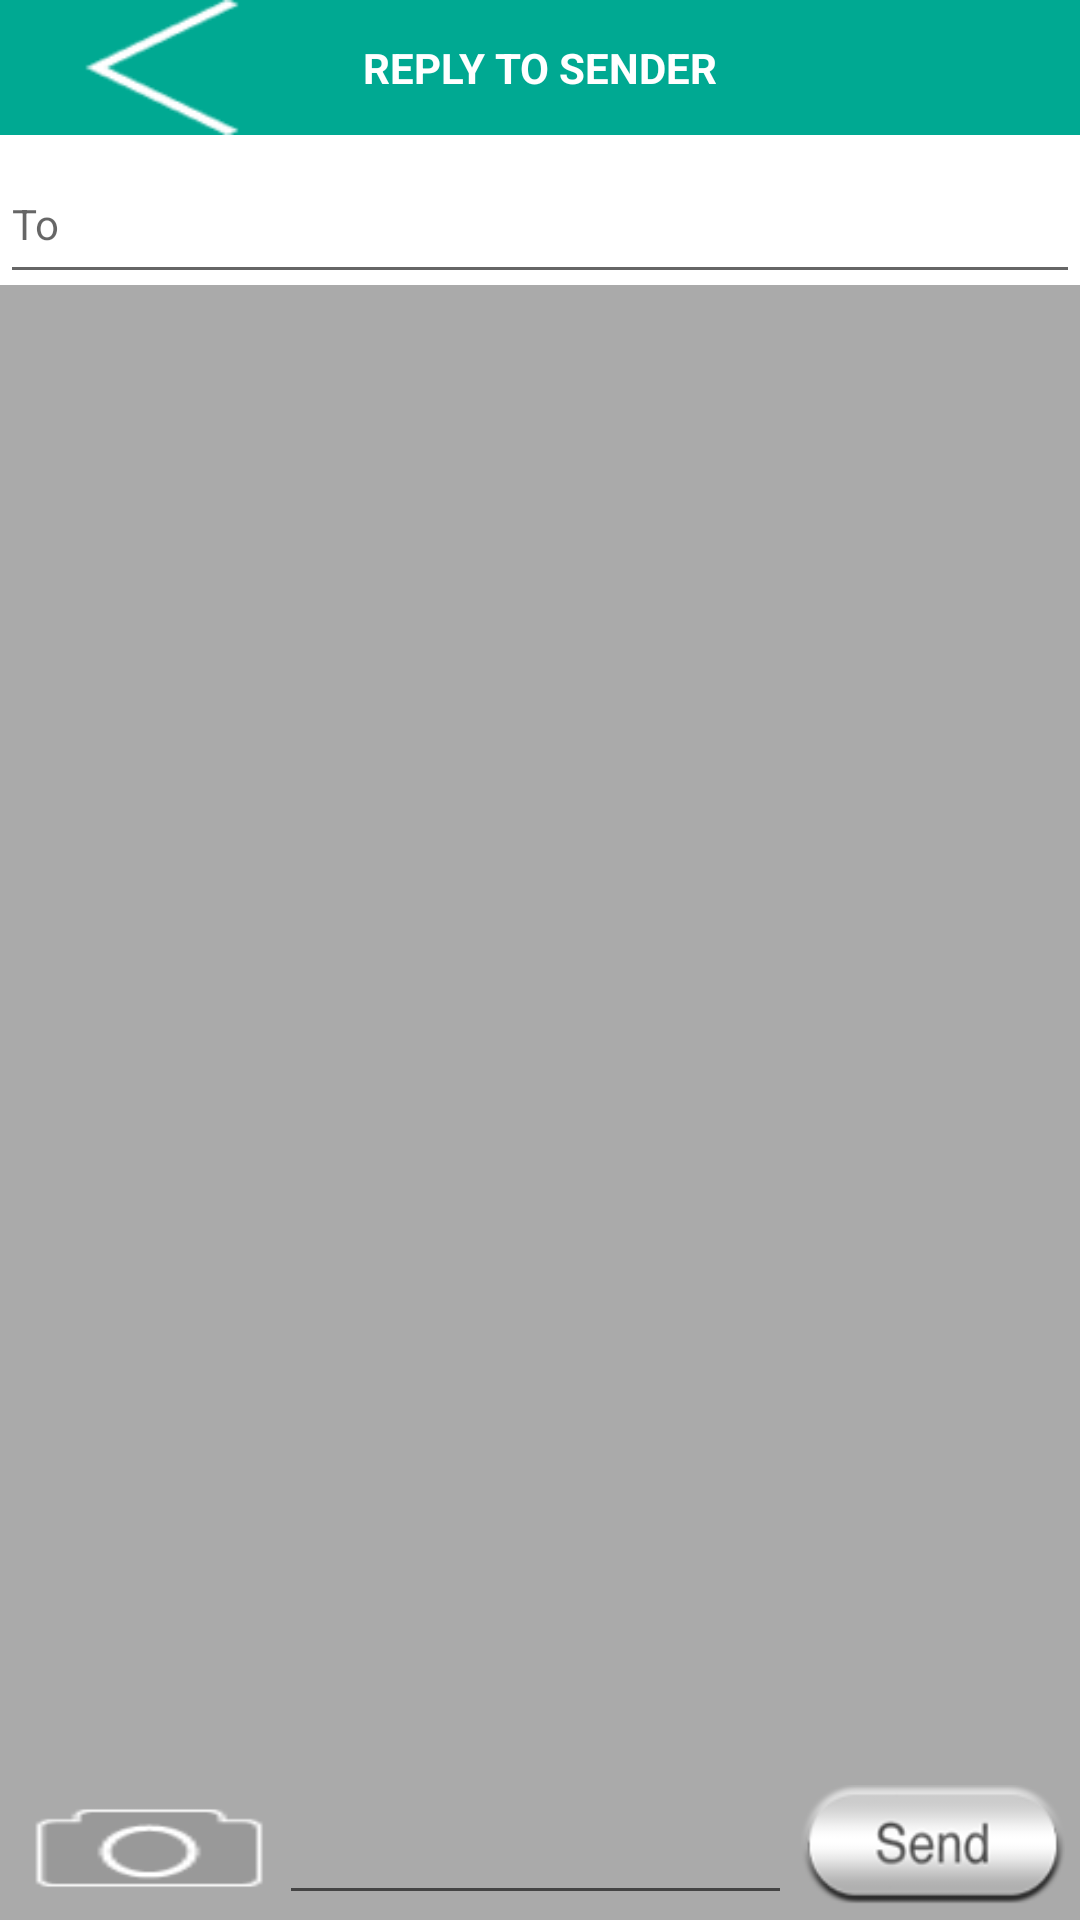

Screen size 1080*1920. Icon name, then its center in pixels as (x=x, y=y):
add media: (x=149, y=1848)
back arrow: (x=162, y=67)
